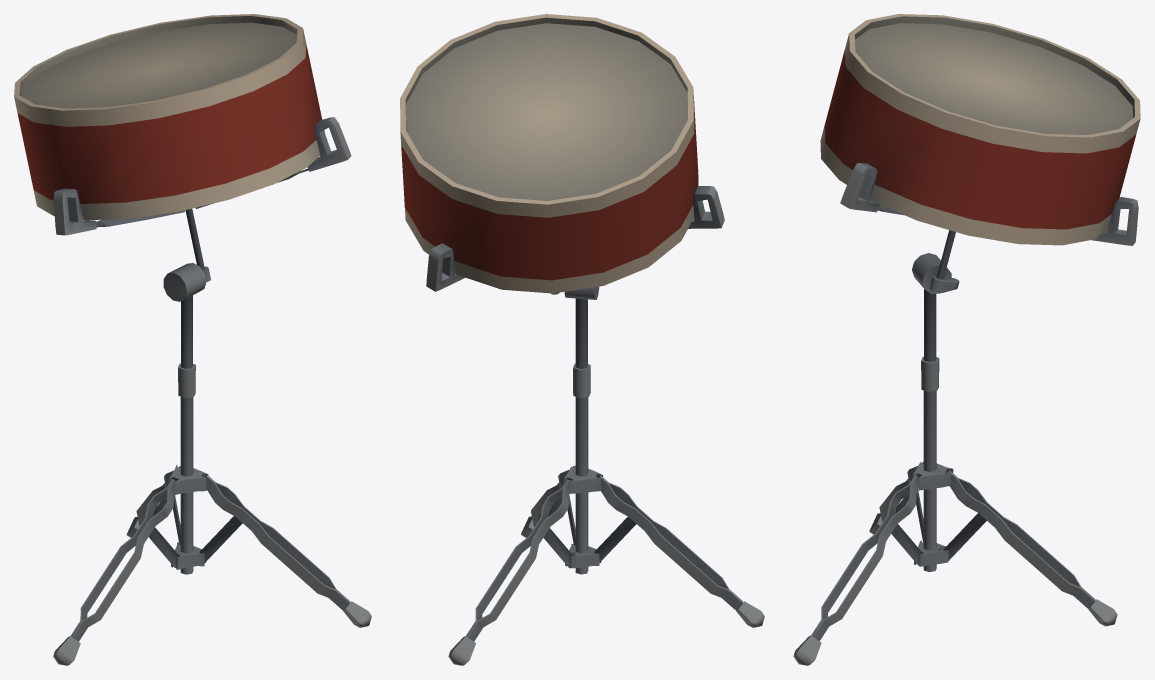
The model's file is human-music-snare-drum_v1.glb.
The picture shows the model from 3 angles, left to right: view 1: azimuth 30°, elevation 25°; view 2: azimuth 150°, elevation 25°; view 3: azimuth 270°, elevation 25°; orthographic projection. The views are drawn at different scales.
Visible parts, largest first — view 1: Snare Drum_v1; view 2: Snare Drum_v1; view 3: Snare Drum_v1.
Boxes of the visible parts, x1,y1,x2,y2 form: Snare Drum_v1: [14, 14, 371, 665]; Snare Drum_v1: [400, 14, 764, 665]; Snare Drum_v1: [793, 14, 1140, 665].
Bounding box in the file's own units: 0.5013 × 0.9 × 0.4962.
